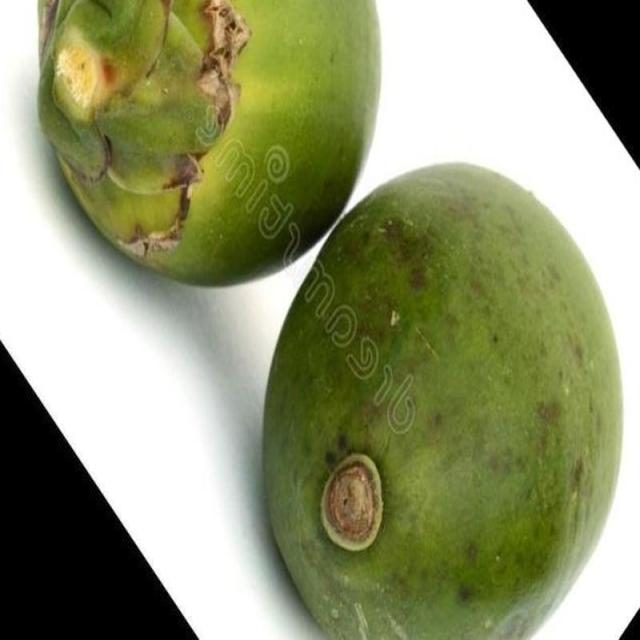good: (260, 162, 625, 639), (39, 0, 384, 290)
